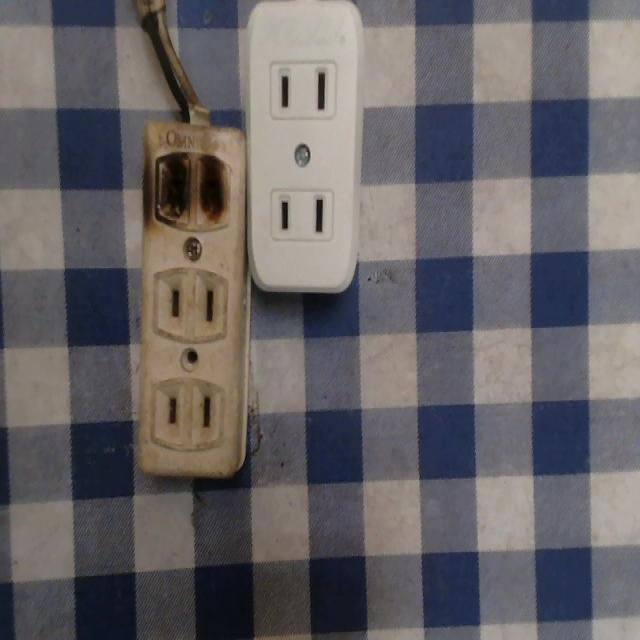-: (148, 142, 233, 234)
